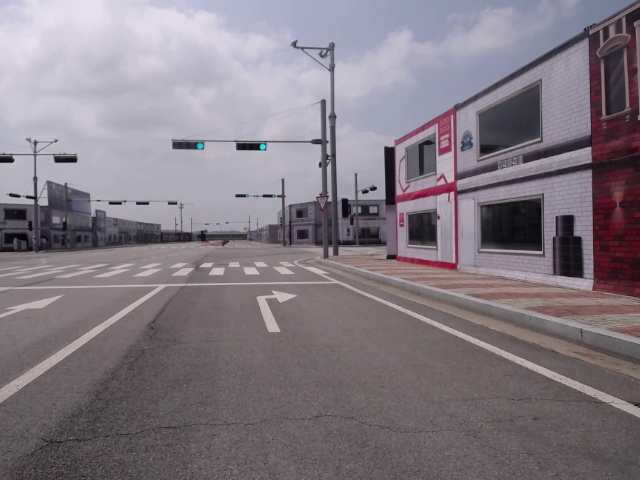straight_green_4: (171, 139, 204, 150), (235, 141, 267, 149), (234, 193, 249, 198), (262, 194, 277, 198)
